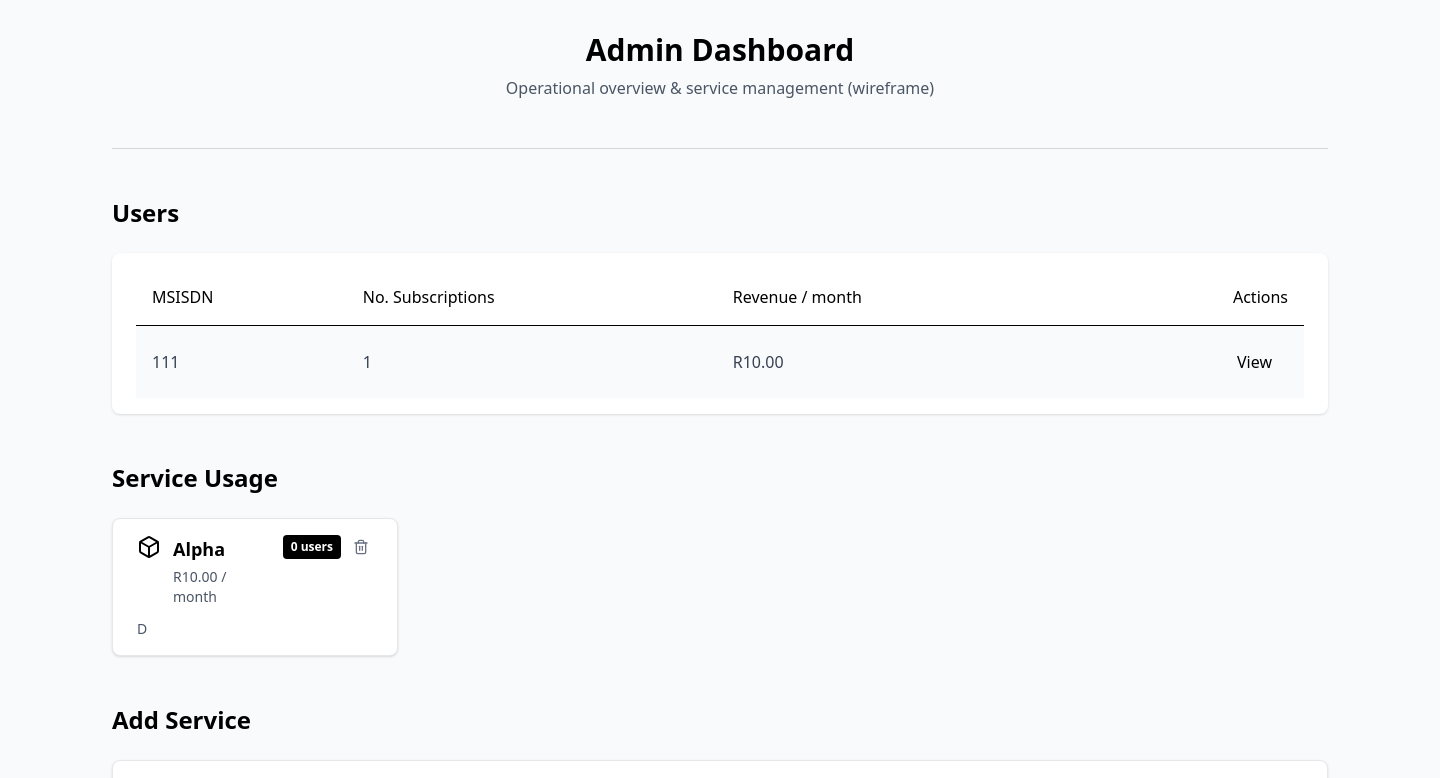
Scenario: AdminContainer › deletes a service via grid action
The image size is (1440, 778).
Click the button named "delete service" at x=361, y=547, box [349,535,373,559]
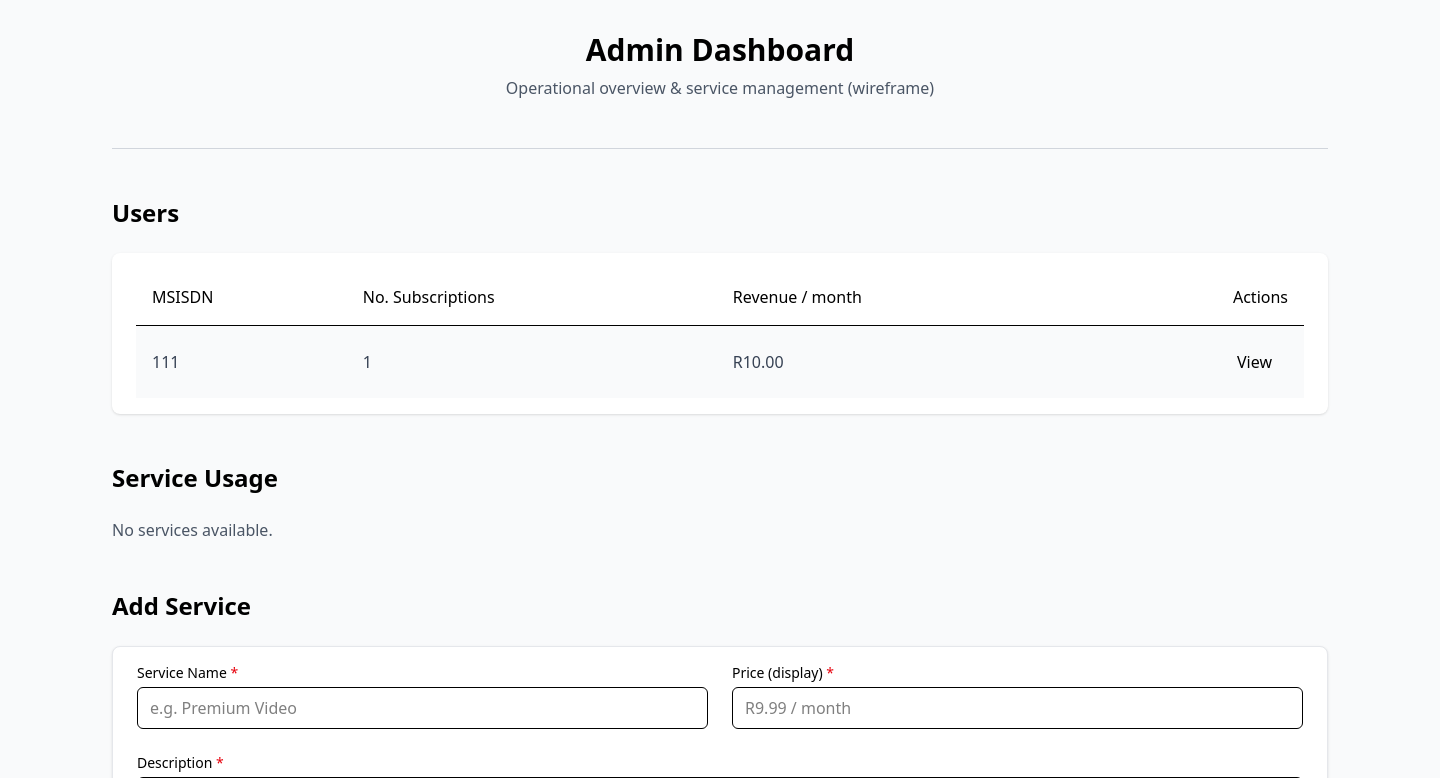
Check: the heading "Alpha" is gone
